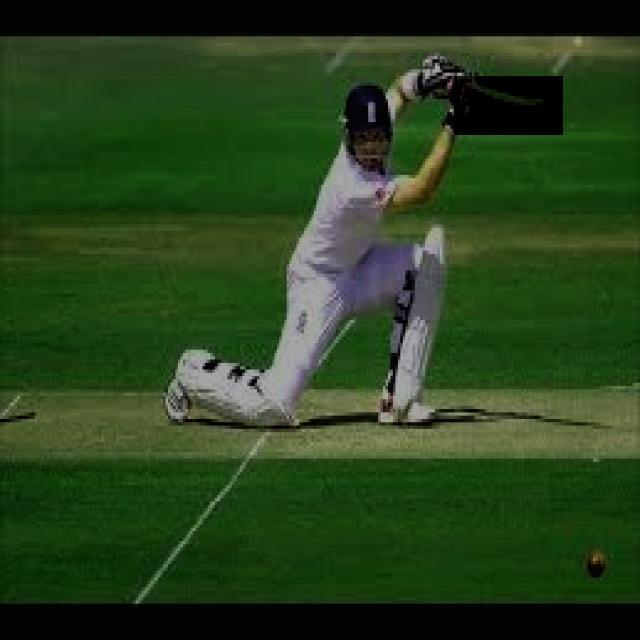bat: (453, 78, 563, 134)
